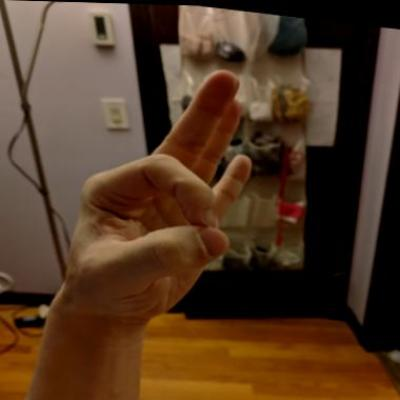hand: (45, 48, 270, 344)
